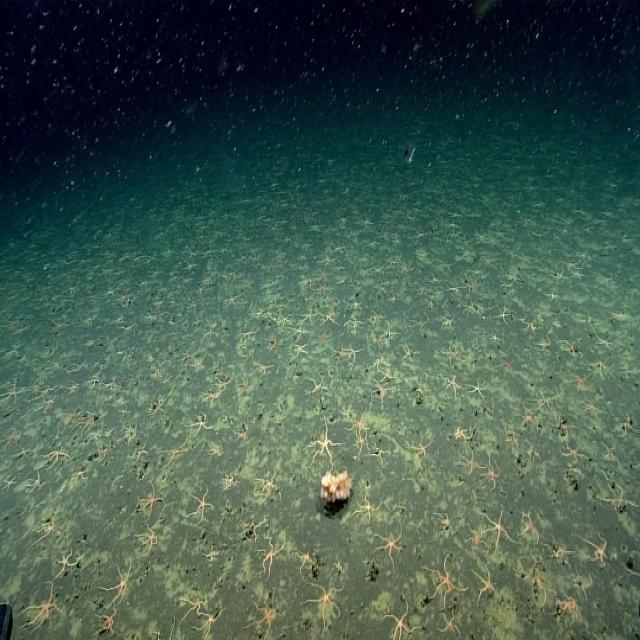brittle-stars: (26, 584, 61, 628), (428, 562, 462, 605), (309, 582, 343, 622), (249, 595, 281, 637), (311, 420, 338, 469), (382, 602, 412, 640), (377, 525, 404, 565), (258, 536, 286, 574), (106, 562, 132, 601), (580, 532, 610, 565), (484, 510, 510, 546), (196, 607, 223, 640), (137, 484, 163, 518), (258, 467, 282, 502), (188, 487, 212, 522), (355, 490, 379, 525), (164, 436, 190, 466), (474, 564, 496, 598), (181, 588, 205, 618), (96, 608, 120, 637), (137, 524, 160, 554), (56, 547, 79, 576), (550, 538, 572, 568), (558, 592, 579, 622), (521, 514, 541, 544), (533, 388, 556, 414), (458, 450, 480, 477), (412, 434, 432, 462), (434, 508, 454, 536), (483, 458, 501, 488), (192, 413, 214, 437), (561, 443, 585, 465), (38, 516, 58, 542), (47, 445, 70, 467), (567, 370, 589, 393), (582, 395, 602, 420), (294, 548, 314, 573), (1, 381, 23, 403), (591, 357, 613, 379), (130, 442, 150, 466), (468, 378, 487, 401), (441, 613, 460, 636), (467, 527, 485, 551), (351, 410, 369, 434), (520, 406, 537, 431), (496, 355, 516, 376), (81, 412, 99, 435), (27, 470, 44, 494), (372, 381, 392, 401), (0, 474, 18, 496), (445, 375, 462, 398), (454, 423, 474, 442), (308, 376, 327, 396), (202, 388, 221, 407), (346, 315, 364, 334), (198, 392, 217, 410), (402, 344, 419, 364), (353, 434, 368, 456), (148, 396, 164, 416), (443, 343, 459, 363), (62, 408, 78, 428), (290, 342, 308, 359), (234, 424, 251, 442), (71, 357, 89, 374), (494, 305, 510, 324), (73, 464, 89, 483), (461, 350, 477, 369), (222, 472, 237, 492), (334, 344, 349, 364), (302, 308, 318, 326), (346, 344, 362, 362), (370, 308, 386, 326), (267, 334, 283, 352), (534, 337, 550, 355), (522, 316, 537, 335), (320, 311, 337, 327), (255, 360, 272, 376), (290, 323, 306, 340), (224, 290, 239, 308), (380, 366, 395, 384), (238, 376, 252, 395), (216, 376, 232, 392), (316, 330, 331, 347), (190, 354, 204, 372), (277, 312, 292, 328), (462, 278, 476, 295), (118, 406, 130, 420), (115, 392, 126, 407)
